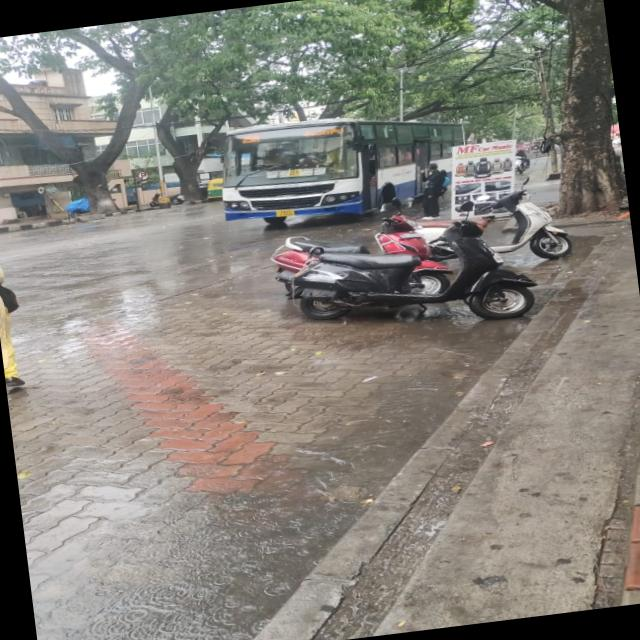bus: (205, 92, 491, 237)
display: (236, 120, 352, 148)
dnumber: (240, 132, 264, 144)
